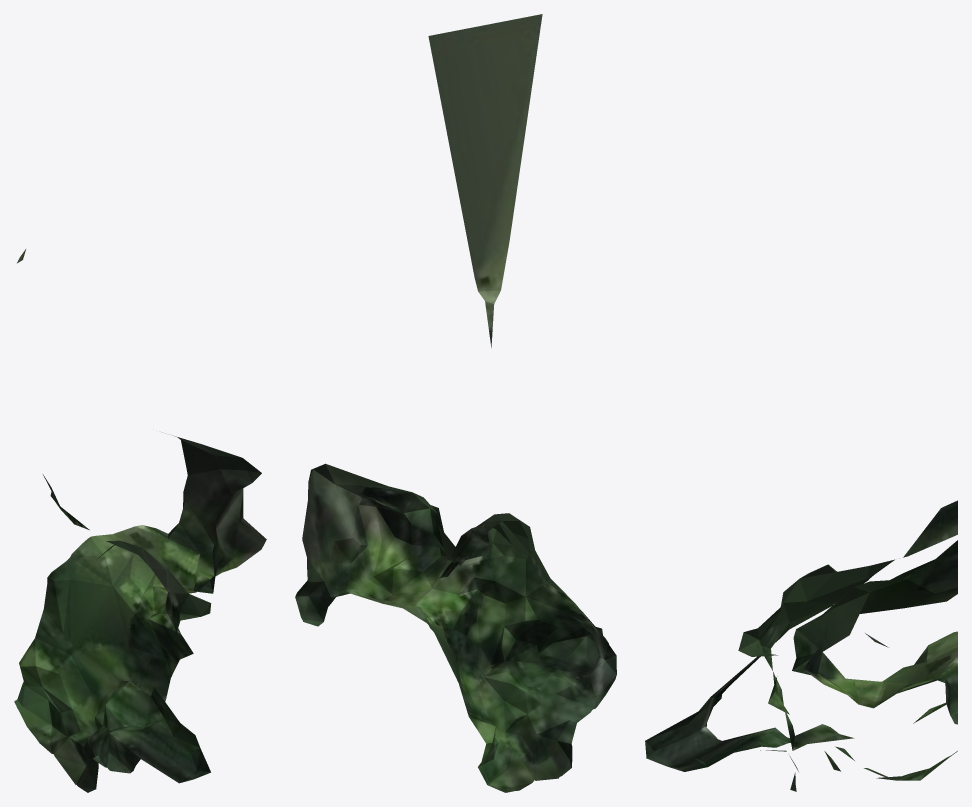
3 views of the same model, side by side, from view 1: azimuth 30°, elevation 25°; view 2: azimuth 150°, elevation 25°; view 3: azimuth 270°, elevation 25° (orthographic). The views are drawn at different scales.
Size of the model in its own units: 7.89 by 26.07 by 9.49.
1 material, 1 textured.
